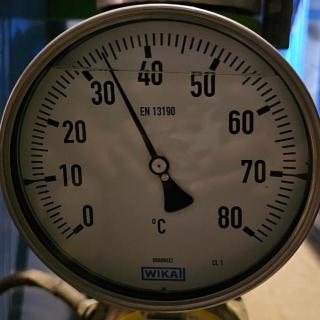gauge: (0, 0, 320, 320), (213, 203, 263, 249), (62, 210, 96, 242), (148, 155, 170, 176), (96, 49, 110, 63)
